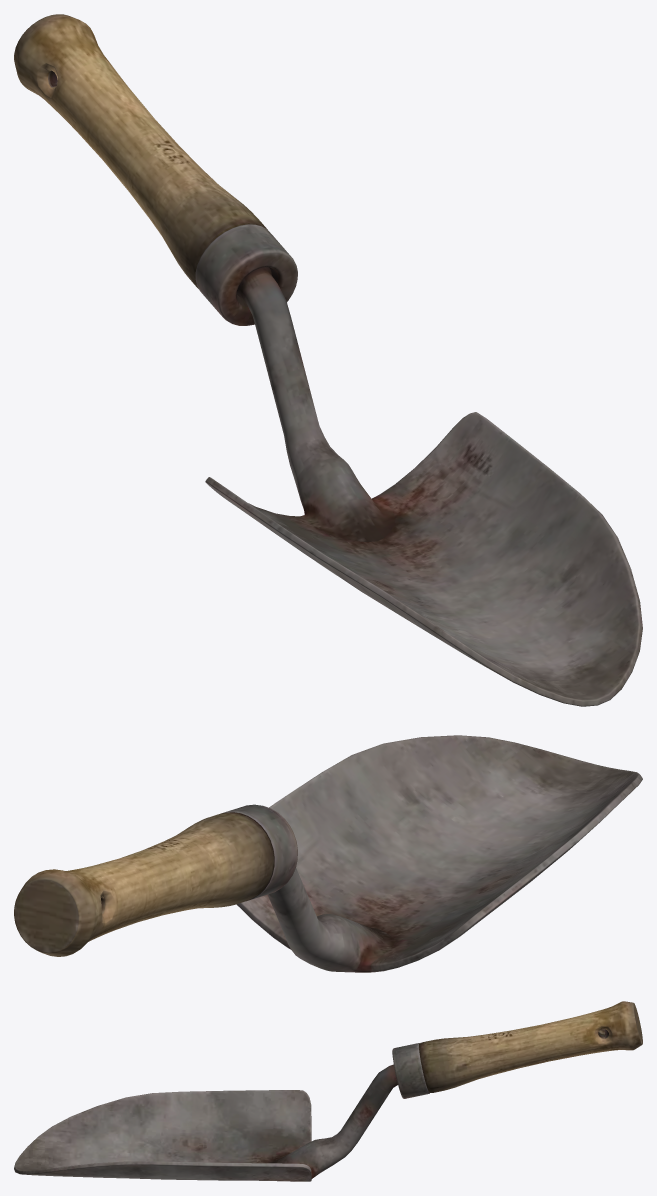
File: trowel_01.glb
The picture shows the model from 3 angles, top to bottom: view 1: azimuth 30°, elevation 25°; view 2: azimuth 150°, elevation 25°; view 3: azimuth 270°, elevation 25°; orthographic projection. The views are drawn at different scales.
Visible parts, largest first — view 1: trowel_01; view 2: trowel_01; view 3: trowel_01.
Part boxes in pixels (x1,y1,x2,y2): trowel_01: [14, 14, 642, 706]; trowel_01: [14, 735, 642, 972]; trowel_01: [14, 1001, 642, 1181].
Bounding box in the file's own units: 0.0991 × 0.1026 × 0.3469.
Materials: 1 (1 with a texture image).
